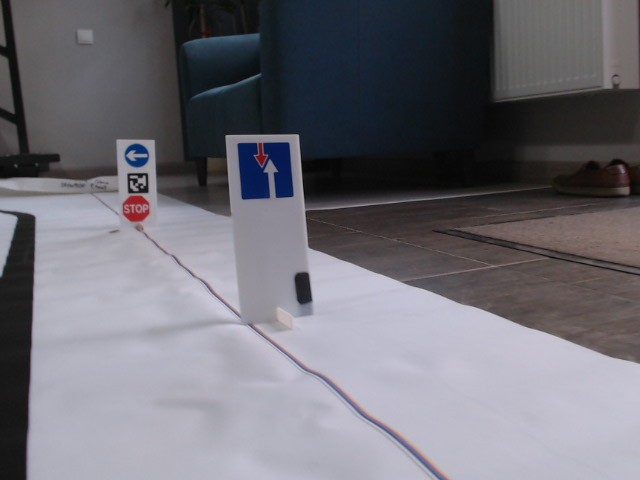Stop: (123, 195, 149, 221)
priority_movement: (236, 142, 295, 200)
